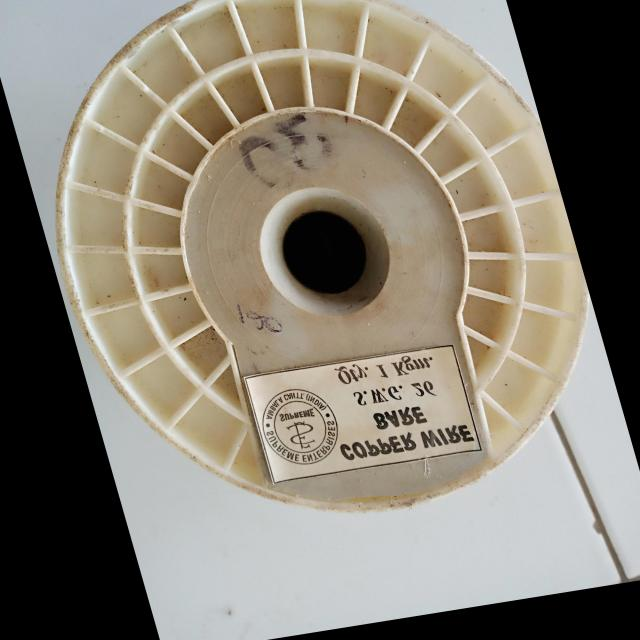Copper Wire: (0, 0, 639, 556)
